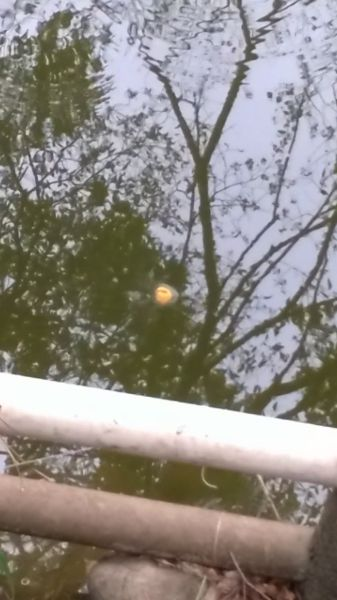eggs: (151, 281, 175, 307)
